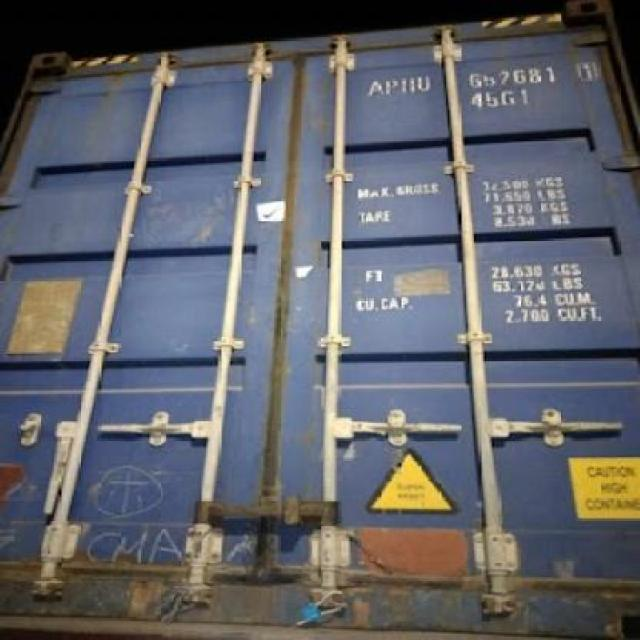ISO: (472, 89, 532, 109)
container_number: (366, 61, 589, 97)
